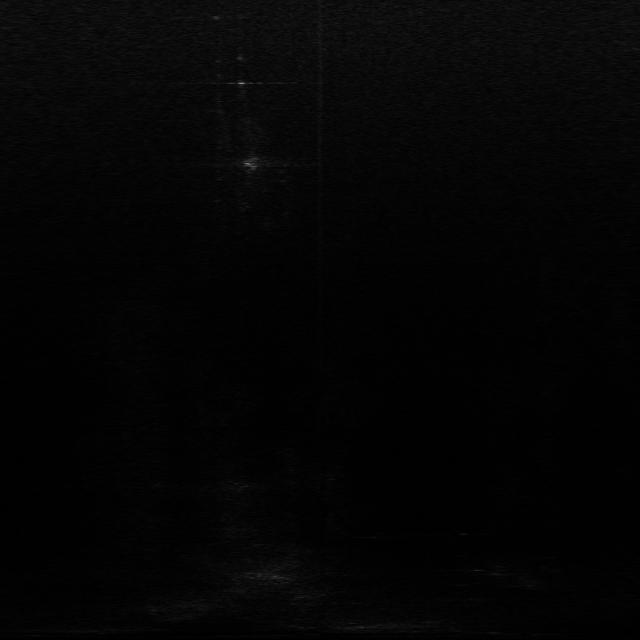rov: (242, 154, 262, 172)
